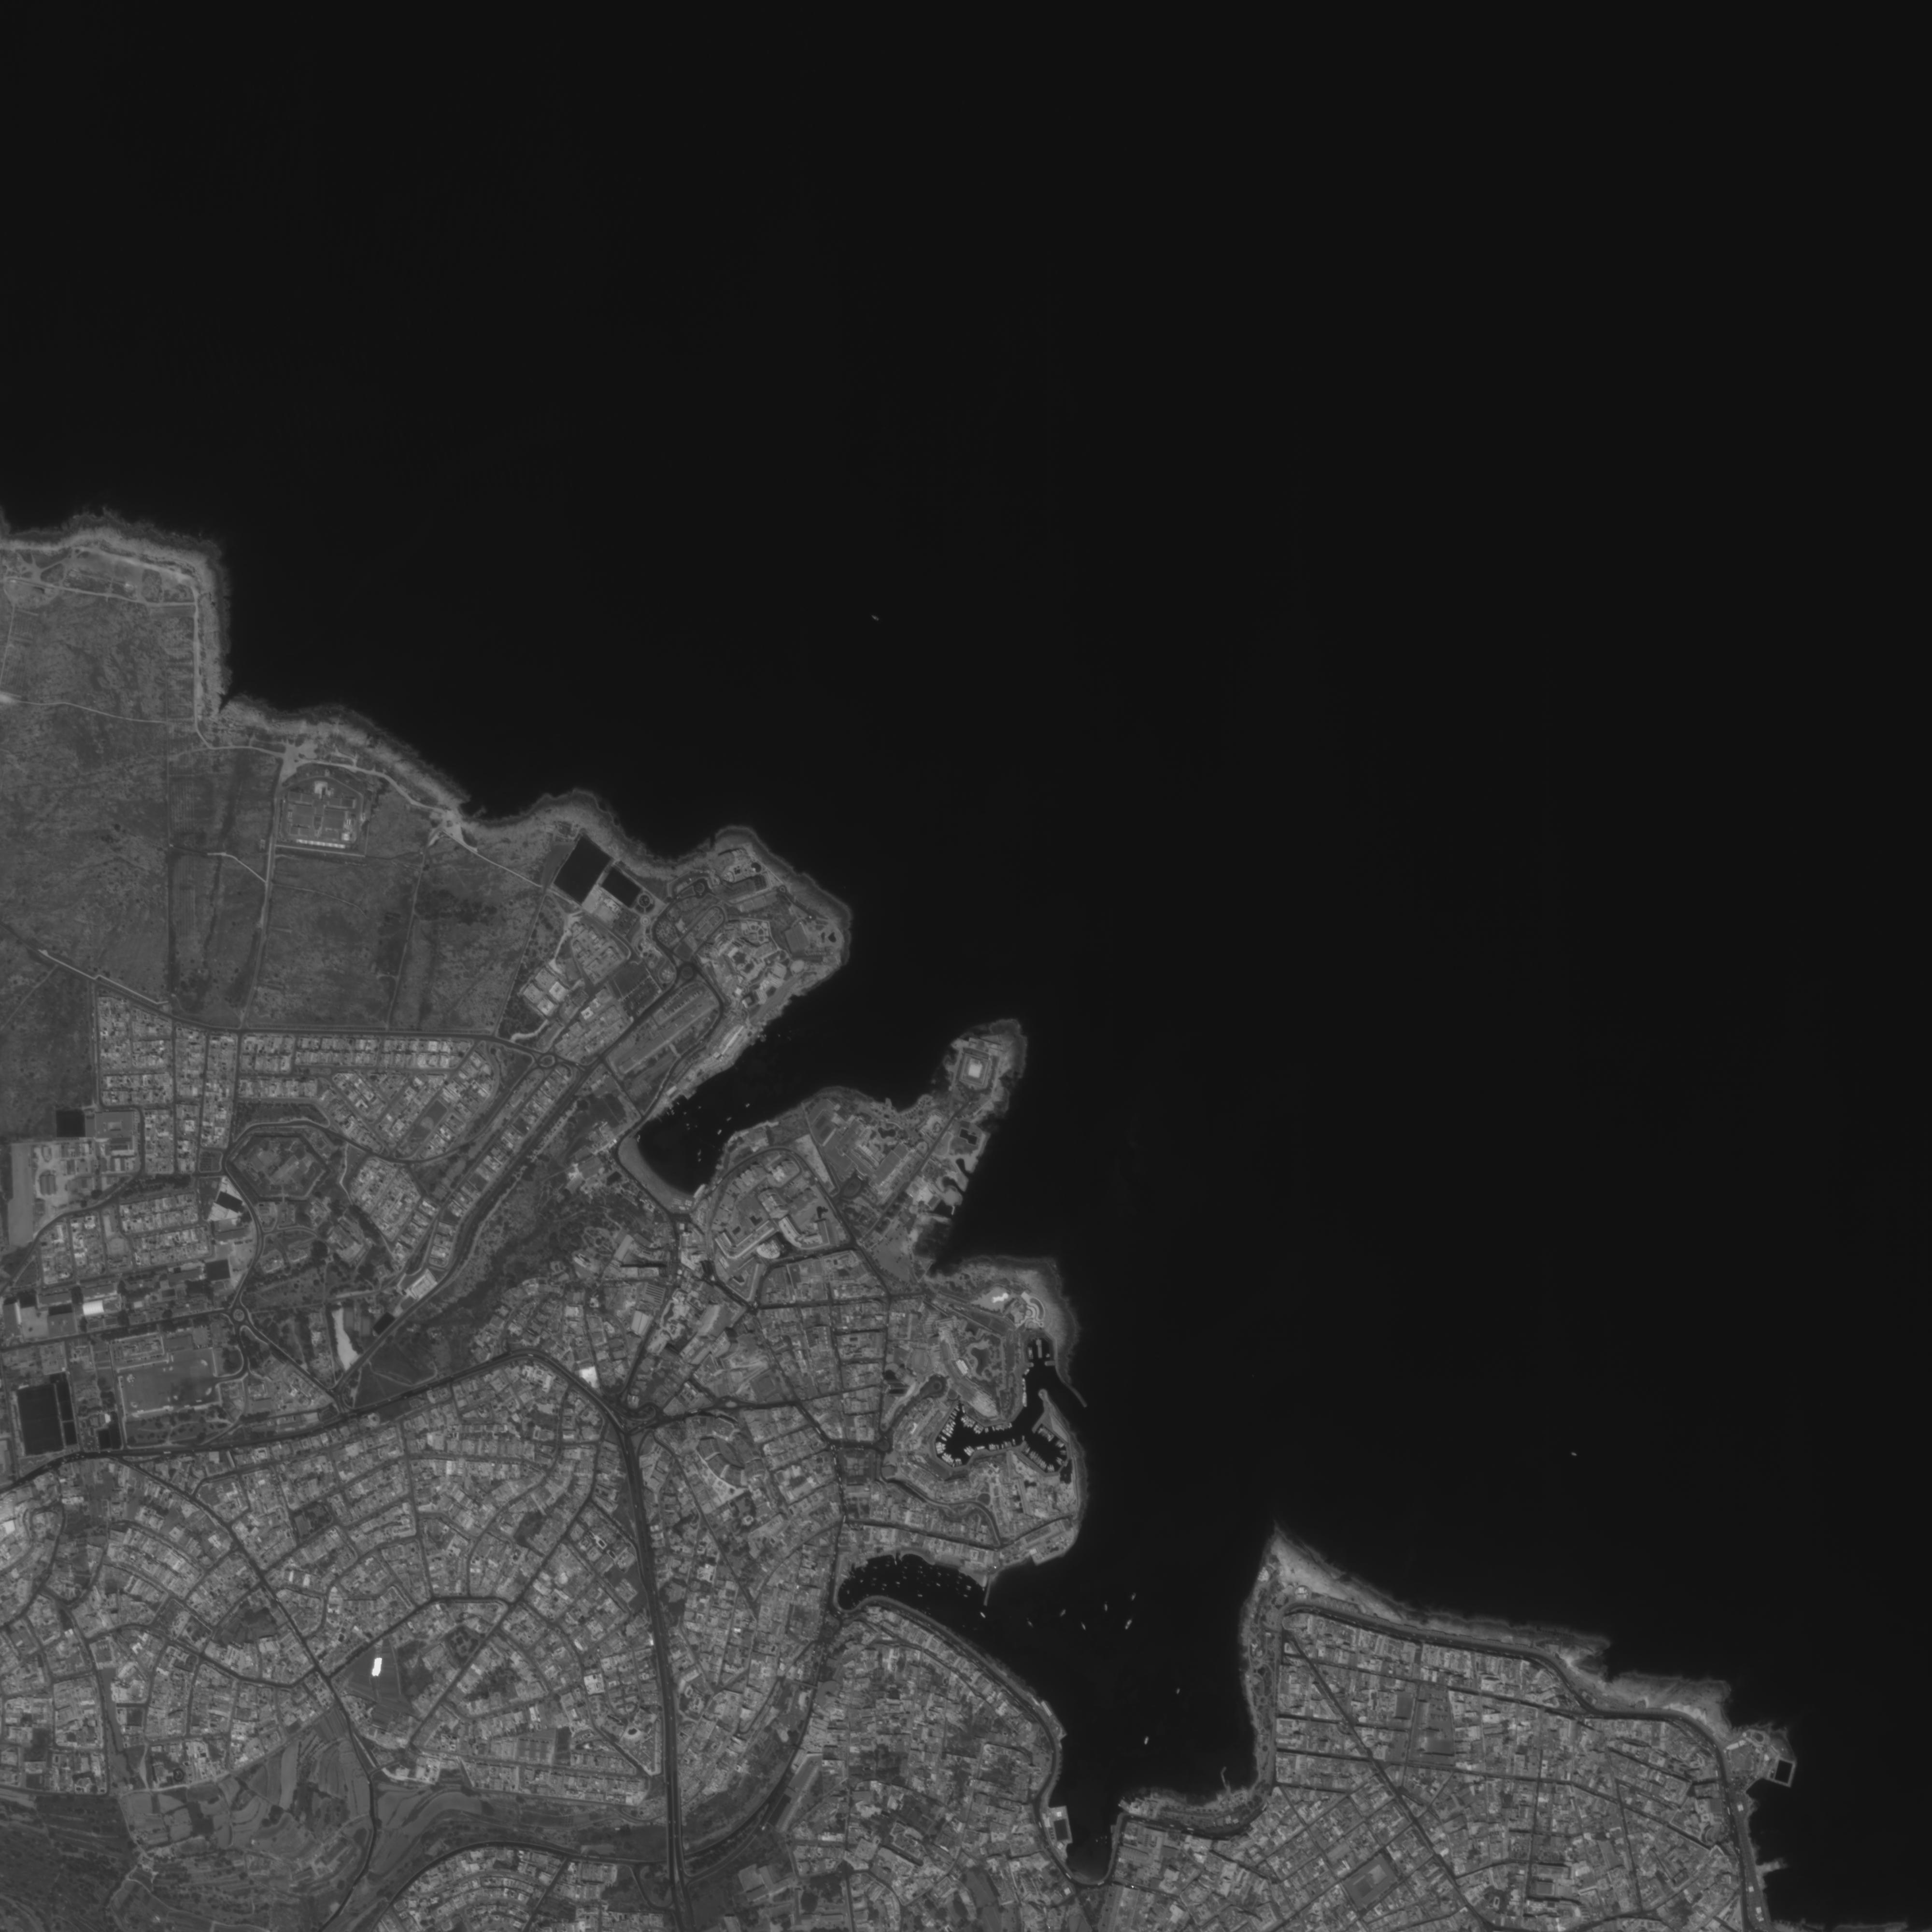harbor: (1215, 1764, 1240, 1801), (978, 1575, 996, 1610)
ship: (1122, 1615, 1136, 1631), (1023, 1392, 1028, 1408), (1023, 1378, 1026, 1391)
